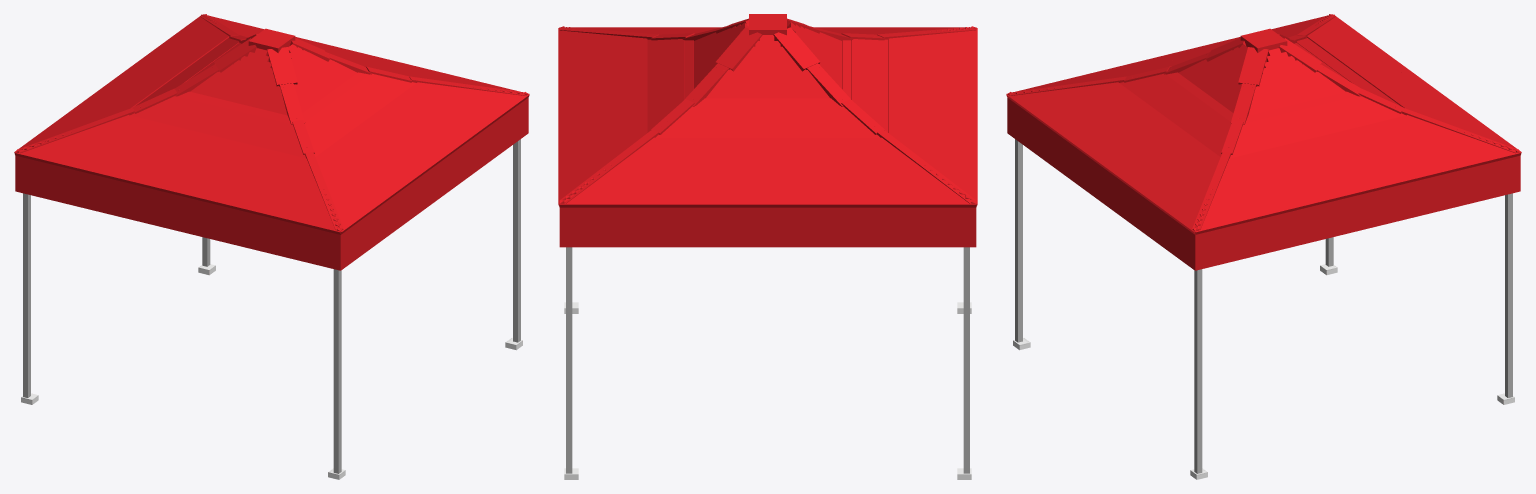
Rendered from tent_red_y30.obj.
3 views of the same model, side by side, from view 1: azimuth 30°, elevation 25°; view 2: azimuth 150°, elevation 25°; view 3: azimuth 270°, elevation 25° (orthographic). The views are drawn at different scales.
Parts seen in each view (by area): view 1: text2, text3, cube1.005, stem3, cube1.004, stem1, stem4, cube2.005, cube3.005, cube4.005, cube5.001, cube6.001 (+48 smaller); view 2: text1, cube1.003, cube2.003, cube3.003, cube4.003, cube5, cube6, cube7, cube8, stem1, stem2, cube13 (+71 smaller); view 3: text0, text3, cube1.006, stem4, cube1.004, stem2, stem3, cube2.006, cube3.006, cube4.006, cube5.002, cube6.002 (+48 smaller).
Boxes of the visible parts, x1,y1,x2,y2 form: text2: (15, 155, 343, 270); text3: (343, 99, 525, 268); cube1.005: (14, 149, 342, 234); stem3: (333, 269, 341, 473); cube1.004: (336, 92, 529, 236); stem1: (23, 193, 30, 397); stem4: (513, 139, 520, 342); cube2.005: (22, 146, 340, 227); cube3.005: (30, 144, 338, 222); cube4.005: (38, 141, 335, 216); cube5.001: (46, 139, 333, 211); cube6.001: (54, 136, 331, 206); text1: (566, 207, 969, 247); cube1.003: (559, 200, 976, 207); cube2.003: (566, 196, 969, 200); cube3.003: (572, 191, 963, 195); cube4.003: (578, 187, 957, 191); cube5: (585, 182, 950, 186); cube6: (591, 178, 944, 182); cube7: (597, 173, 938, 177); cube8: (604, 169, 931, 173); stem1: (963, 247, 969, 473); stem2: (566, 247, 572, 473); cube13: (636, 146, 899, 151); text0: (1192, 156, 1520, 270); text3: (1010, 99, 1192, 268); cube1.006: (1192, 149, 1521, 235); stem4: (1194, 269, 1202, 473); cube1.004: (1006, 92, 1198, 236); stem2: (1505, 193, 1512, 397); stem3: (1015, 139, 1022, 342); cube2.006: (1195, 146, 1513, 227); cube3.006: (1197, 144, 1505, 222); cube4.006: (1200, 141, 1497, 216); cube5.002: (1202, 139, 1489, 211); cube6.002: (1204, 136, 1481, 206).
Bounding box in the file's own units: 5.09 × 3.66 × 5.09.
